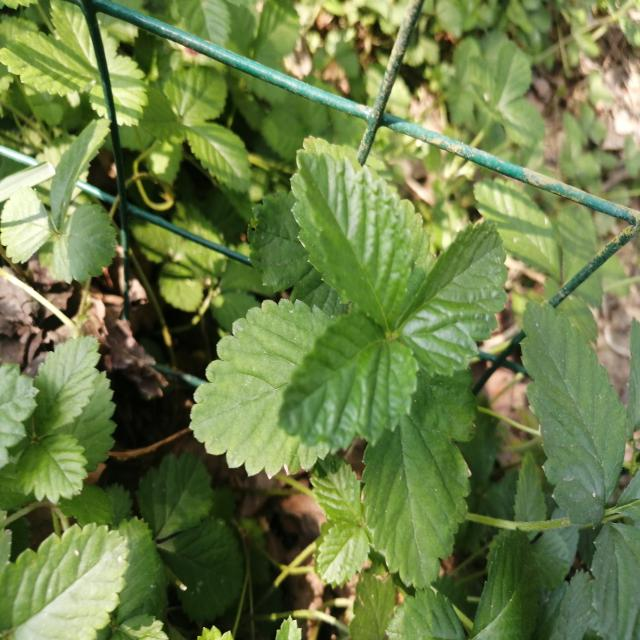Mock_strawberry: (286, 152, 516, 484)
